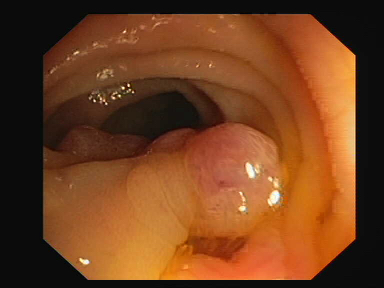polyp: (188, 119, 284, 237), (64, 123, 145, 153), (142, 125, 198, 157)
